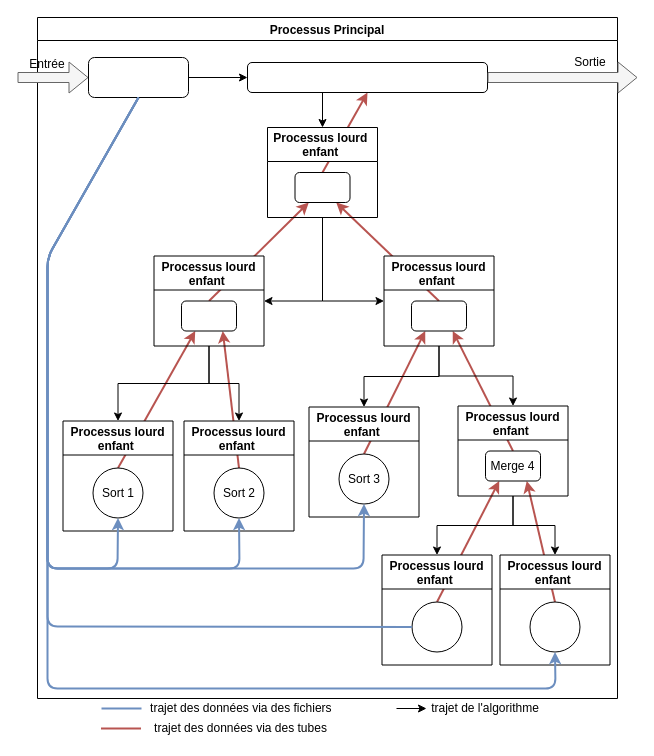
This 654x756 diagram has some shape labels left out. Here are the shapes that lost their labels. From the top down, the centre of each, then its label:
At (x=138, y=77): "Split en 5 sous fichier".
At (x=367, y=77): "Sauvgarder les données dans le fichier de sortie".
At (x=322, y=187): "Merge 1".
At (x=208, y=315): "Merge 2".
At (x=438, y=315): "Merge 3".
At (x=436, y=626): "Sort 4".
At (x=554, y=626): "Sort 5".
